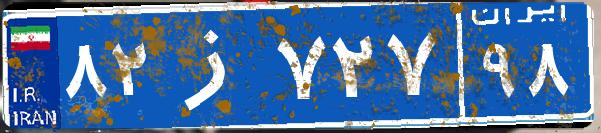2: (330, 28, 385, 110), (110, 28, 158, 105)
7: (385, 28, 445, 110), (273, 28, 330, 110)
8: (57, 26, 110, 107), (525, 38, 570, 115)
9: (475, 38, 525, 113)
ز: (158, 15, 273, 115)
